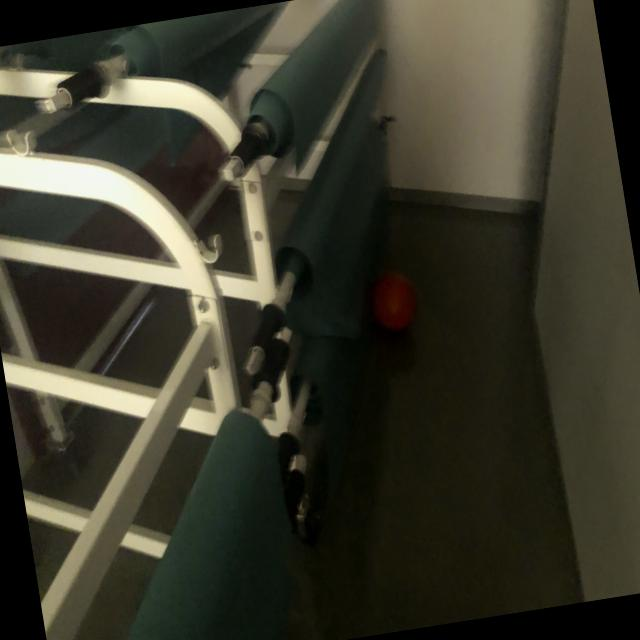red_ball: (366, 267, 421, 336)
